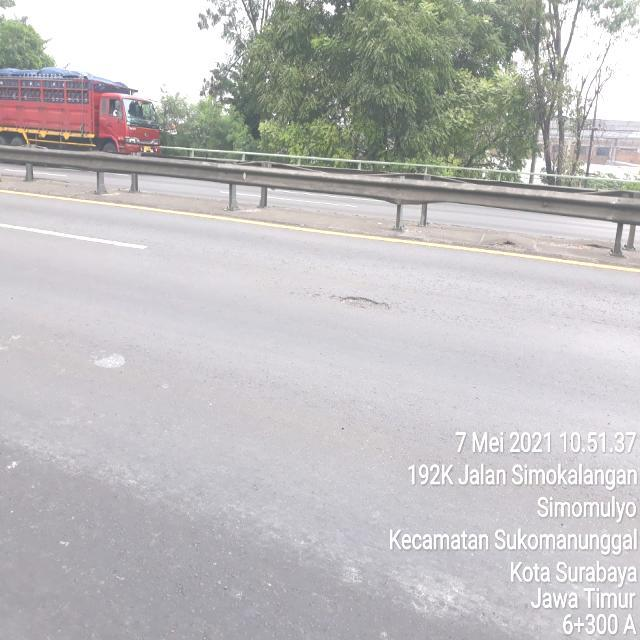Buraco: (326, 294, 393, 314)
